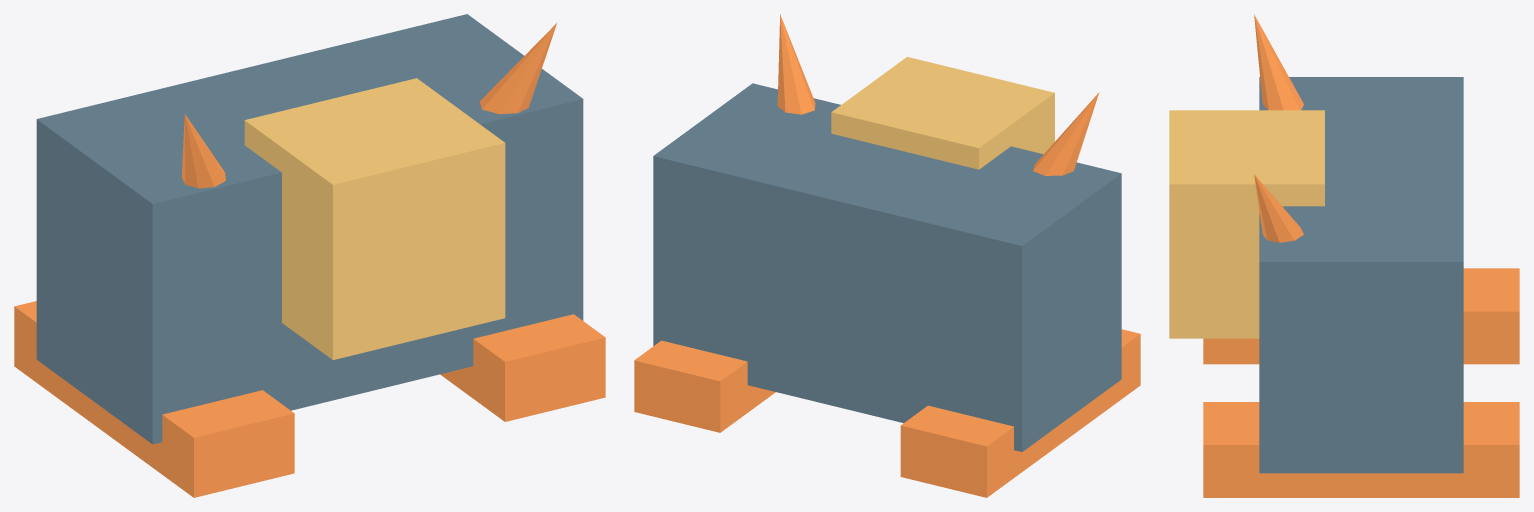
The model's file is colossus.glb.
3 views of the same model, side by side, from view 1: azimuth 30°, elevation 25°; view 2: azimuth 150°, elevation 25°; view 3: azimuth 270°, elevation 25° (orthographic). The views are drawn at different scales.
Parts seen in each view (by area): view 1: colossus; view 2: colossus; view 3: colossus.
Part boxes in pixels (<box>): colossus: <box>14,14,605,497</box>; colossus: <box>634,14,1140,497</box>; colossus: <box>1169,14,1519,497</box>.
Bounding box in the file's own units: 1.8 × 1.43 × 1.44.
